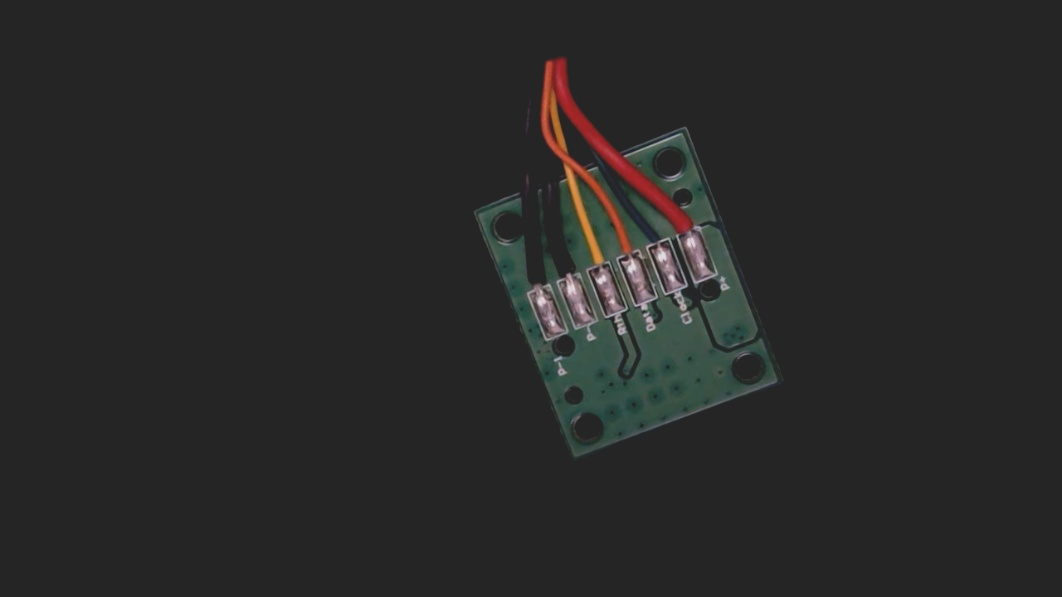Black: (538, 227, 585, 293)
Black1: (509, 248, 554, 309)
Green: (630, 201, 676, 262)
Orange: (599, 205, 645, 271)
Red: (658, 185, 705, 249)
Yellow: (567, 218, 614, 285)
